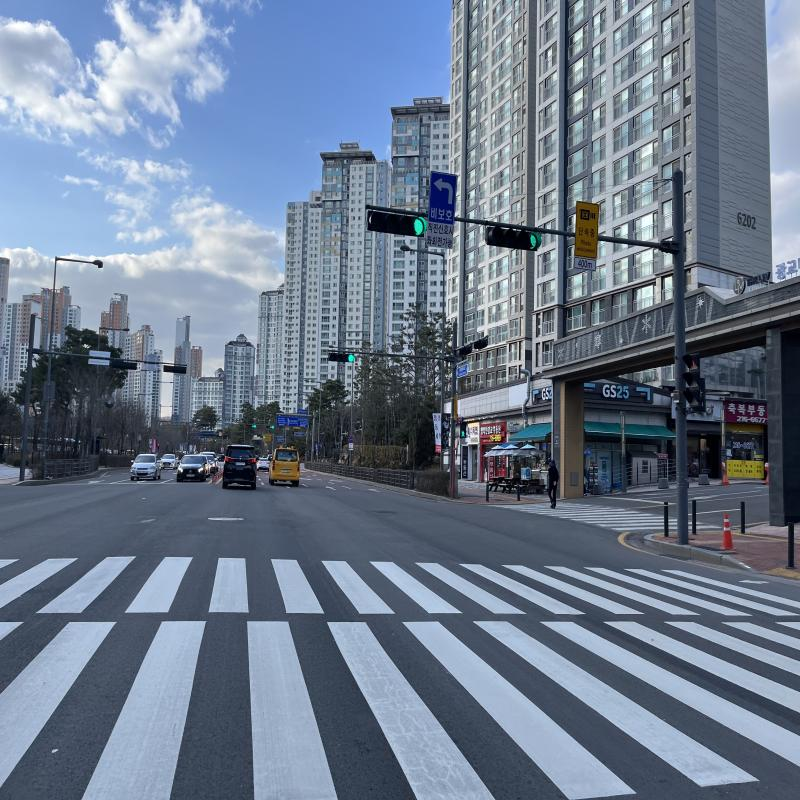green: (410, 217, 426, 235), (526, 234, 538, 250)
